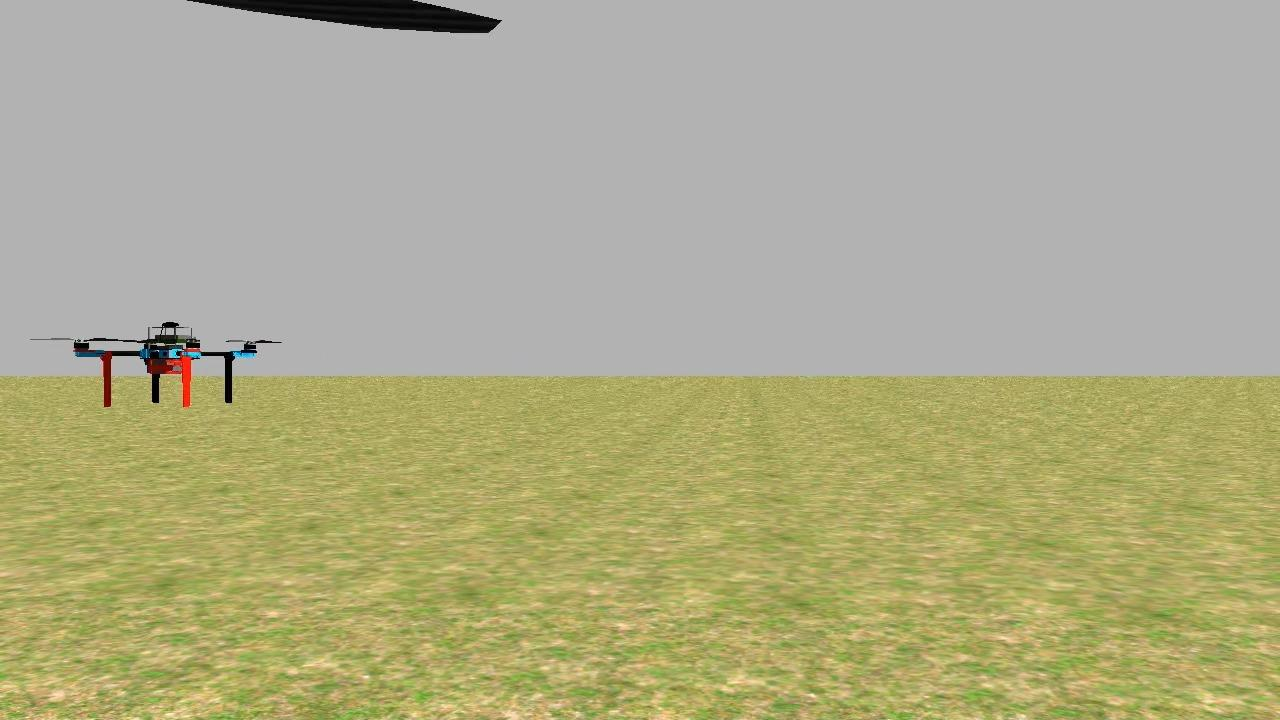UAV: (63, 307, 267, 422)
